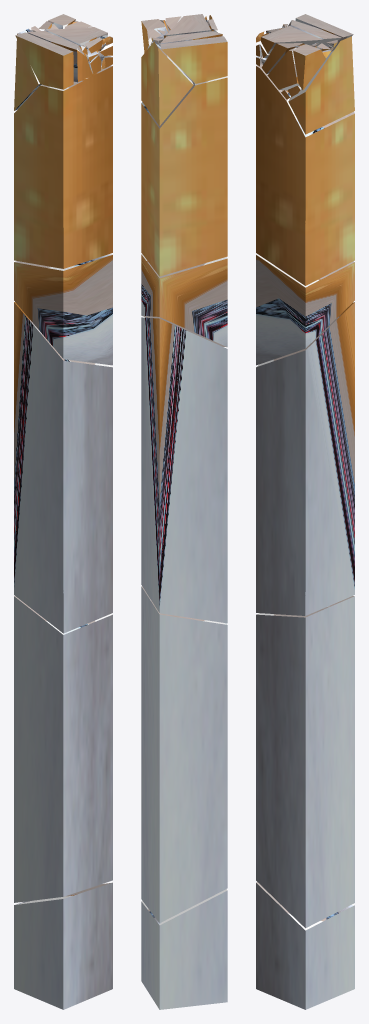
File: cigarette_fracture.fbx
The picture shows the model from 3 angles, left to right: view 1: azimuth 90°, elevation 25°; view 2: azimuth 150°, elevation 25°; view 3: azimuth 270°, elevation 25°; orthographic projection.
Visible parts, largest first — view 1: CigaretteFull_cell.001, CigaretteFull_cell.007, CigaretteFull_cell, CigaretteFull_cell.005, CigaretteFull_cell.006, CigaretteFull_cell.002_cell.007, CigaretteFull_cell.010, CigaretteFull_cell.002_cell.003, CigaretteFull_cell.002_cell.005, CigaretteFull_cell.008_cell.007; view 2: CigaretteFull_cell.001, CigaretteFull_cell.007, CigaretteFull_cell, CigaretteFull_cell.005, CigaretteFull_cell.006, CigaretteFull_cell.010, CigaretteFull_cell.002_cell.007, CigaretteFull_cell.002_cell.005, CigaretteFull_cell.008_cell.007, CigaretteFull_cell.002_cell.003; view 3: CigaretteFull_cell.001, CigaretteFull_cell.007, CigaretteFull_cell, CigaretteFull_cell.005, CigaretteFull_cell.006, CigaretteFull_cell.010, CigaretteFull_cell.008_cell.007, CigaretteFull_cell.002_cell.005, CigaretteFull_cell.008_cell.006, CigaretteFull_cell.002_cell.007, CigaretteFull_cell.002_cell.003, CigaretteFull_cell.008_cell.
Boxes of the visible parts, <box> form: CigaretteFull_cell.001: <box>14,596,112,902</box>; CigaretteFull_cell.007: <box>14,302,112,633</box>; CigaretteFull_cell: <box>14,65,112,268</box>; CigaretteFull_cell.005: <box>14,882,112,1009</box>; CigaretteFull_cell.006: <box>14,254,112,365</box>; CigaretteFull_cell.002_cell.007: <box>15,32,73,89</box>; CigaretteFull_cell.010: <box>14,29,41,110</box>; CigaretteFull_cell.002_cell.003: <box>27,31,91,82</box>; CigaretteFull_cell.002_cell.005: <box>47,27,107,48</box>; CigaretteFull_cell.008_cell.007: <box>44,14,75,30</box>; CigaretteFull_cell.001: <box>141,586,227,923</box>; CigaretteFull_cell.007: <box>141,317,227,623</box>; CigaretteFull_cell: <box>141,76,227,276</box>; CigaretteFull_cell.005: <box>141,889,227,1009</box>; CigaretteFull_cell.006: <box>141,254,227,347</box>; CigaretteFull_cell.010: <box>141,41,193,125</box>; CigaretteFull_cell.002_cell.007: <box>160,36,227,83</box>; CigaretteFull_cell.002_cell.005: <box>166,14,210,35</box>; CigaretteFull_cell.008_cell.007: <box>141,19,167,52</box>; CigaretteFull_cell.002_cell.003: <box>160,31,222,43</box>; CigaretteFull_cell.001: <box>256,596,354,928</box>; CigaretteFull_cell.007: <box>256,302,354,615</box>; CigaretteFull_cell: <box>256,64,354,285</box>; CigaretteFull_cell.005: <box>256,882,354,1009</box>; CigaretteFull_cell.006: <box>256,254,354,365</box>; CigaretteFull_cell.010: <box>288,36,354,134</box>; CigaretteFull_cell.008_cell.007: <box>293,44,325,89</box>; CigaretteFull_cell.002_cell.005: <box>261,26,322,54</box>; CigaretteFull_cell.008_cell.006: <box>267,47,300,90</box>; CigaretteFull_cell.002_cell.007: <box>295,14,353,43</box>; CigaretteFull_cell.002_cell.003: <box>287,20,341,48</box>; CigaretteFull_cell.008_cell: <box>261,43,304,73</box>.
Size of the model in its own units: 10.47 by 111 by 10.47.
